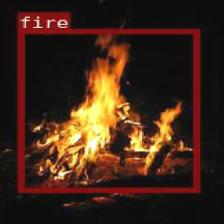fire: (16, 28, 198, 191)
